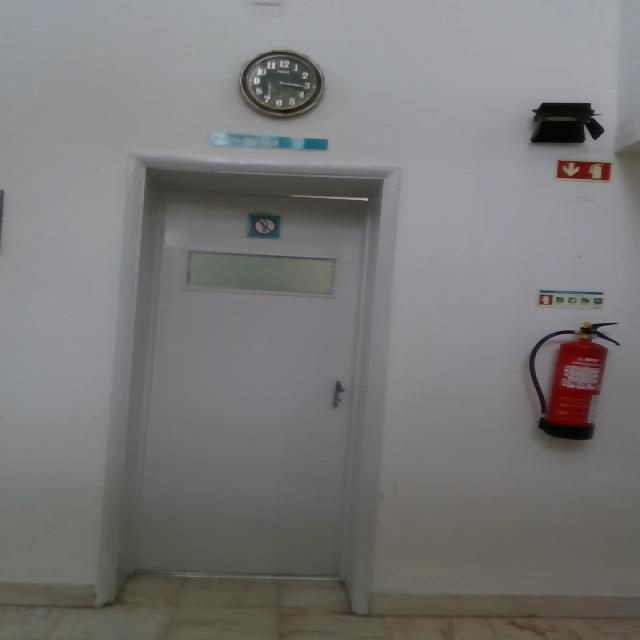door: (97, 149, 405, 616)
